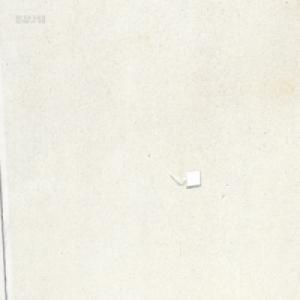LuggageTag: (168, 168, 201, 186)
